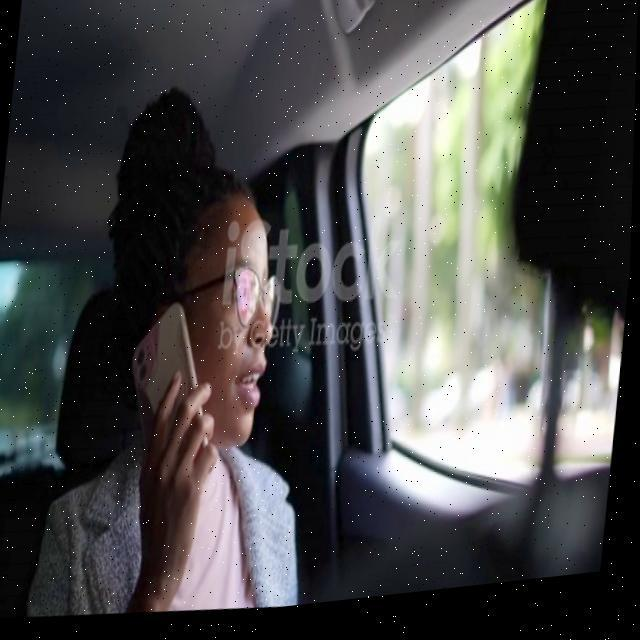PhoneCall: (123, 300, 226, 490)
